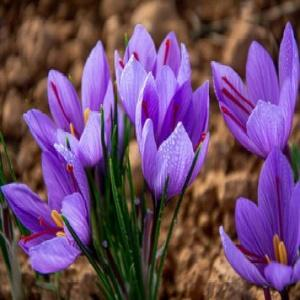Saffron: (4, 151, 116, 285), (210, 22, 300, 175), (15, 54, 125, 160), (224, 150, 300, 295), (141, 74, 207, 212)
